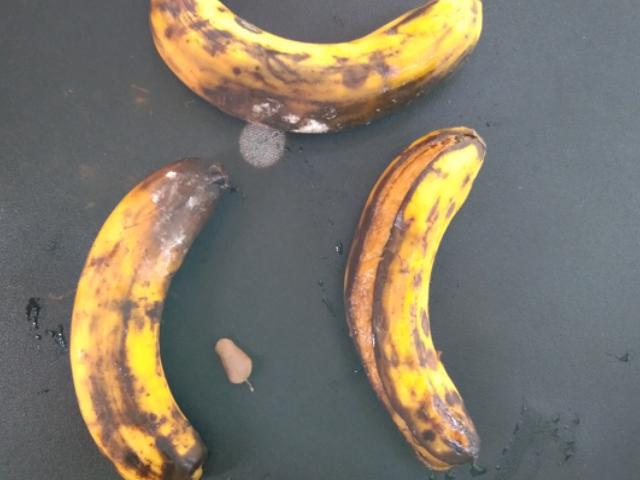rotten: (322, 117, 506, 479), (50, 150, 240, 479), (149, 0, 494, 130)
